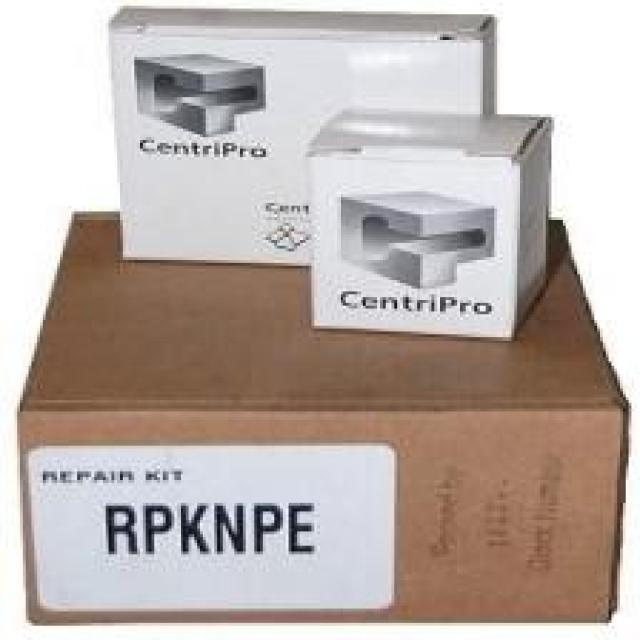box: (26, 42, 612, 598)
